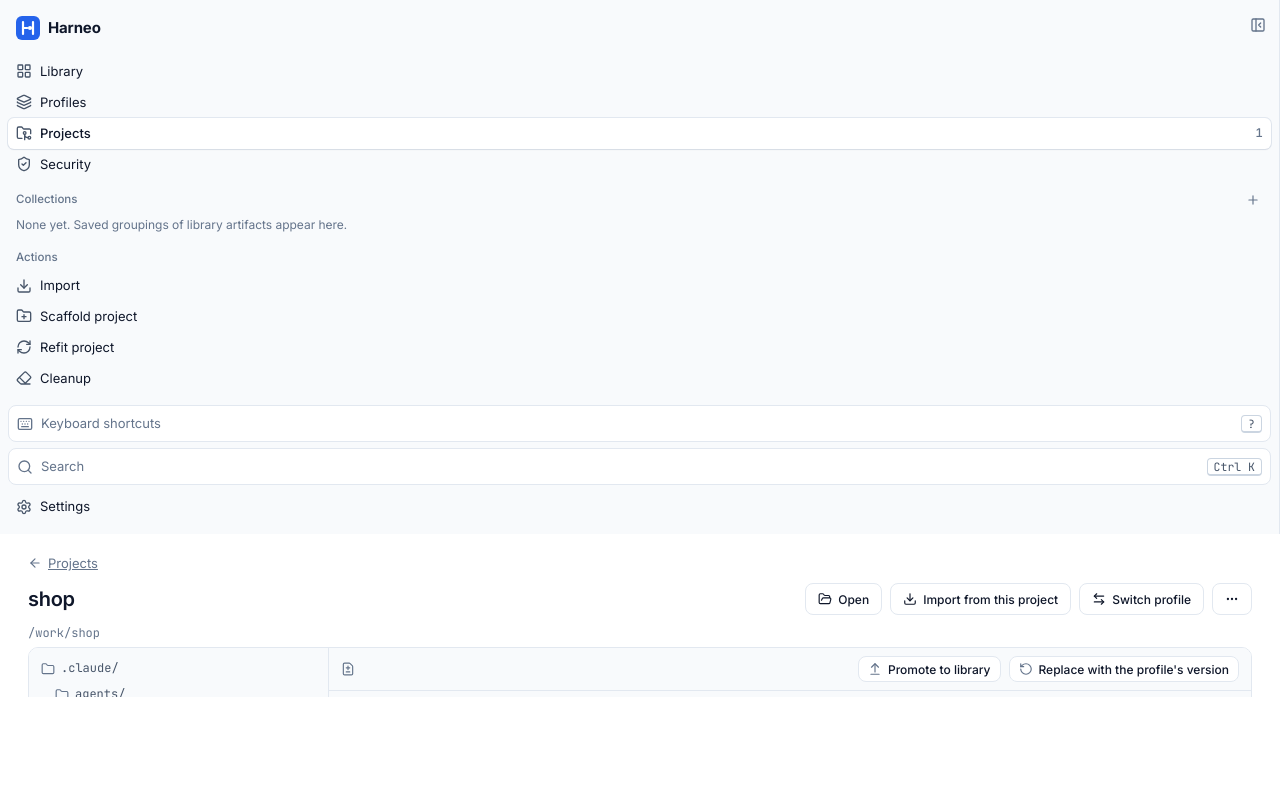
Test: Drift tab › shows a failed single re-apply inside its dialog
The width and height of the screenshot is (1280, 800).
(page scrolled)
Click the button "Replace with the profile's version" at (1124, 670), box top-left (1008, 656), bottom-right (1239, 682)
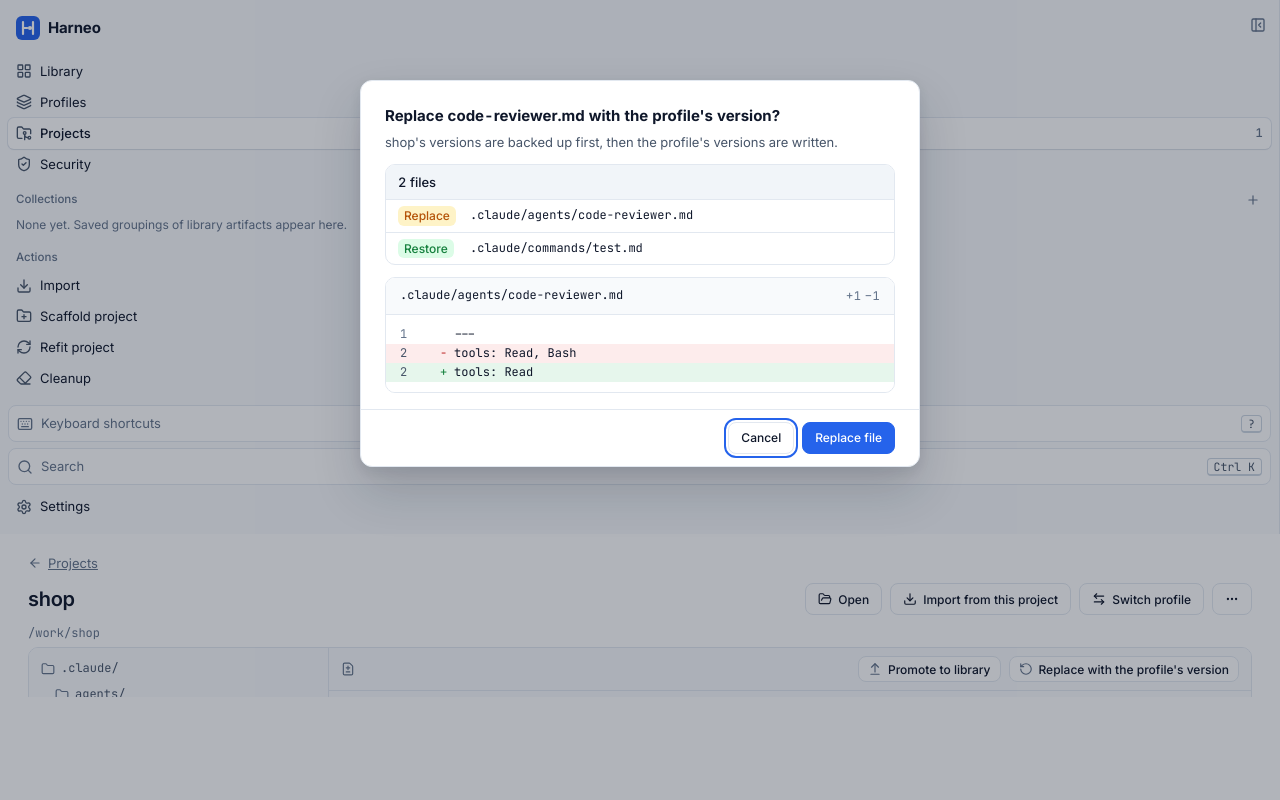
Expected: the text "tools: Read" is shown, top-left (454, 363), bottom-right (533, 382)
Click the button "Replace file" at (849, 438), box top-left (802, 422), bottom-right (895, 454)
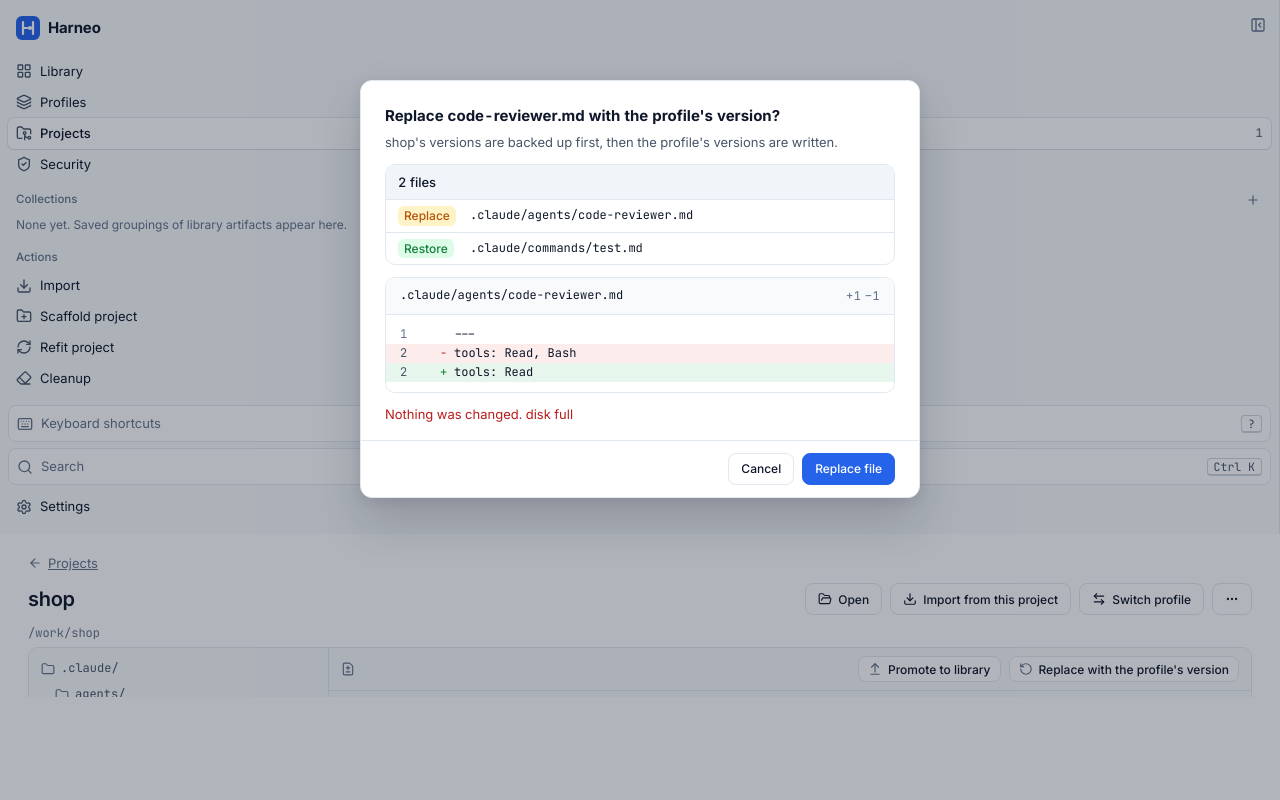
Expected: the message reads "Nothing was changed. disk full", top-left (385, 406), bottom-right (573, 422)
